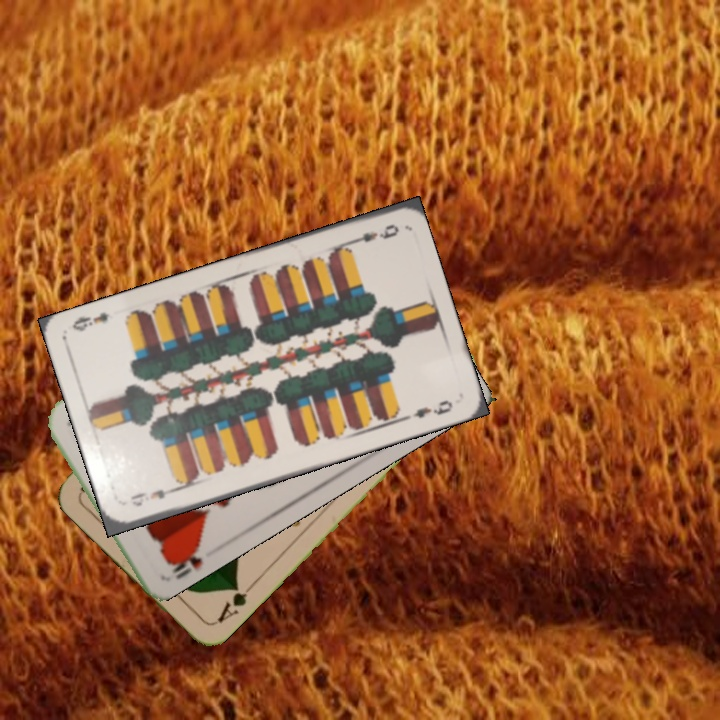E9: (344, 220, 401, 248), (127, 482, 181, 509)
GA: (210, 580, 257, 627)
HO: (163, 539, 205, 582)
